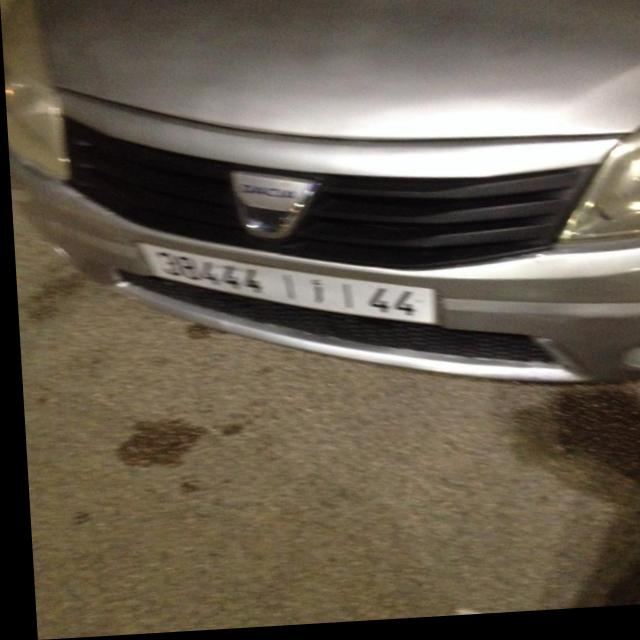License-Plate: (137, 245, 431, 329)
